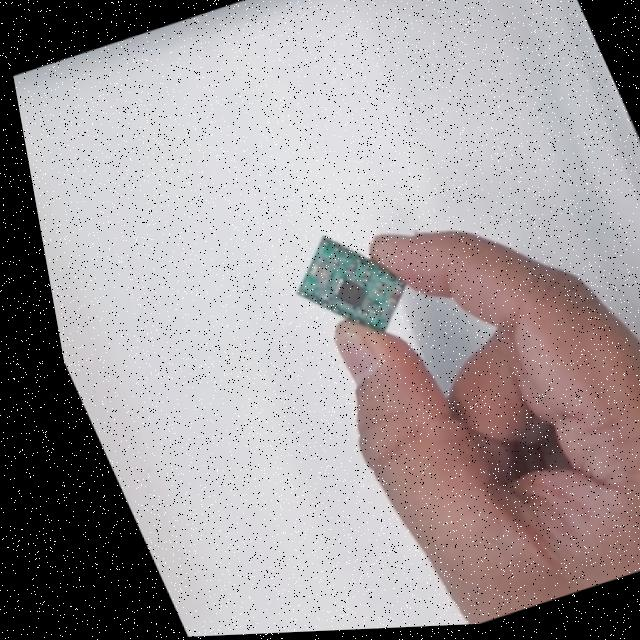Chip: (269, 212, 427, 357)
